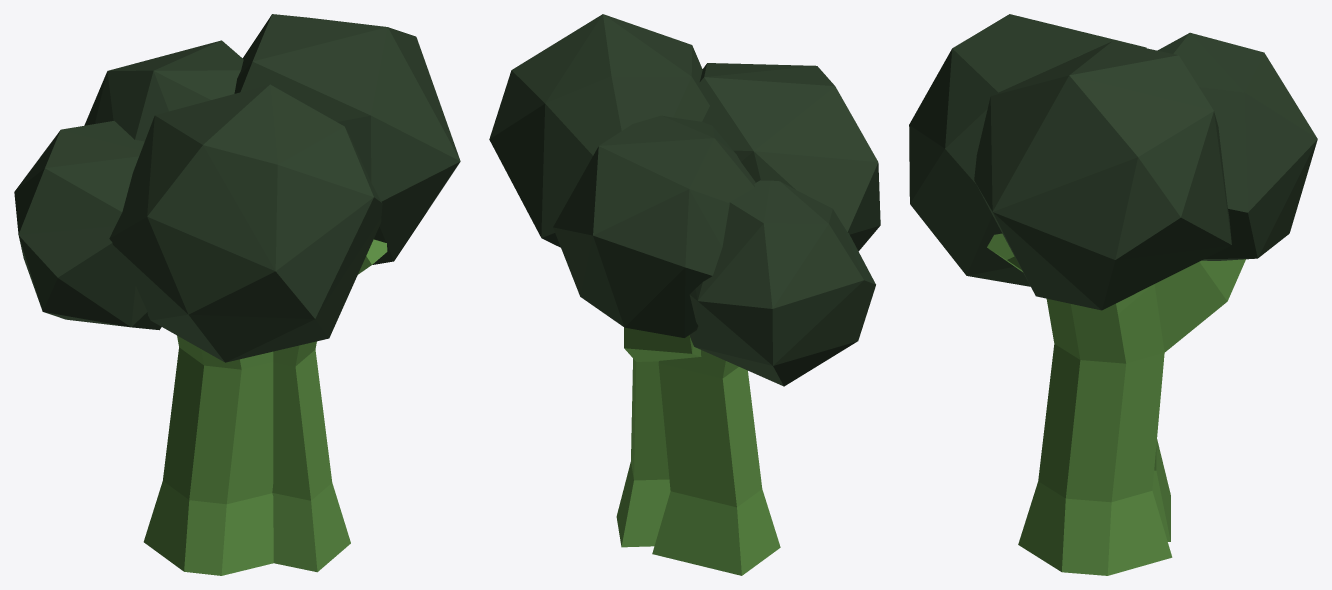
File: Broccoli.obj
The picture shows the model from 3 angles, left to right: view 1: azimuth 30°, elevation 25°; view 2: azimuth 150°, elevation 25°; view 3: azimuth 270°, elevation 25°; orthographic projection. The views are drawn at different scales.
Visible parts, largest first — view 1: mesh_1, mesh_0; view 2: mesh_1, mesh_0; view 3: mesh_1, mesh_0.
Part boxes in pixels (bbox=[...]): mesh_1: bbox=[14, 14, 460, 362]; mesh_0: bbox=[143, 239, 387, 575]; mesh_1: bbox=[489, 14, 880, 386]; mesh_0: bbox=[616, 327, 780, 575]; mesh_1: bbox=[909, 14, 1317, 310]; mesh_0: bbox=[987, 233, 1245, 575].
Bounding box in the file's own units: 0.7515 × 0.8996 × 0.6444.
